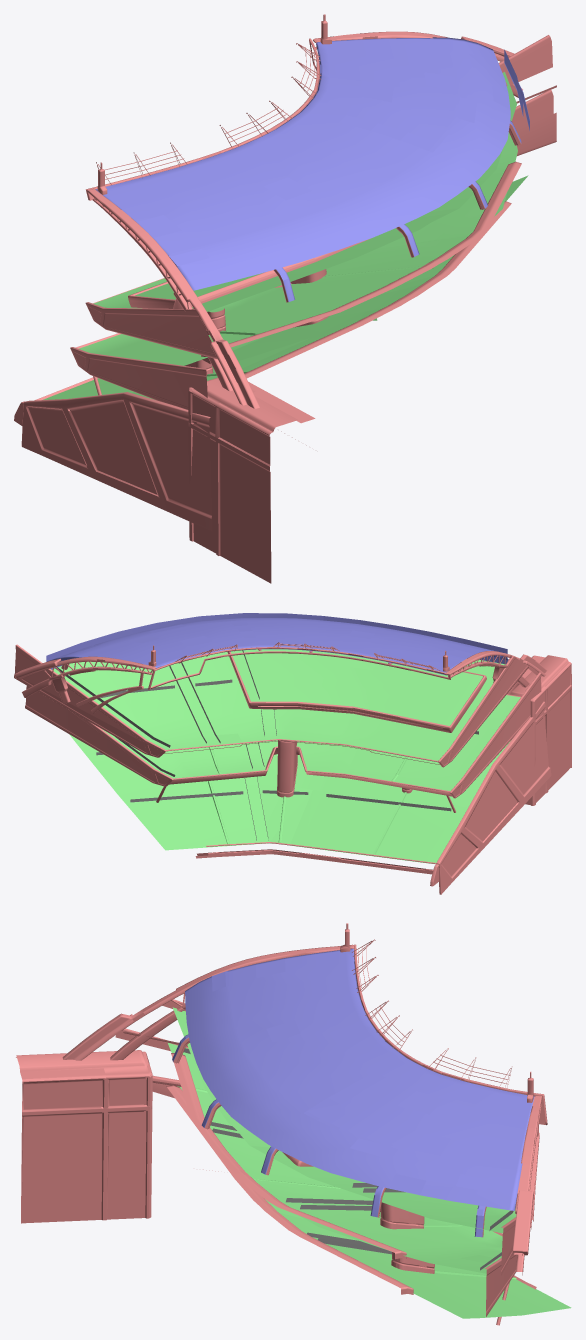
Rendered from CS_Stands_04.gltf.
3 renders of one model, top to bottom at view 1: azimuth 30°, elevation 25°; view 2: azimuth 150°, elevation 25°; view 3: azimuth 270°, elevation 25°, orthographic. The views are drawn at different scales.
Visible parts, largest first — view 1: CS_Stands_04; view 2: CS_Stands_04; view 3: CS_Stands_04.
Boxes of the visible parts, x1,y1,x2,y2 form: CS_Stands_04: (14,14,556,583); CS_Stands_04: (14,613,571,894); CS_Stands_04: (16,923,571,1325).
Size of the model in its own units: 239 by 123 by 212.
